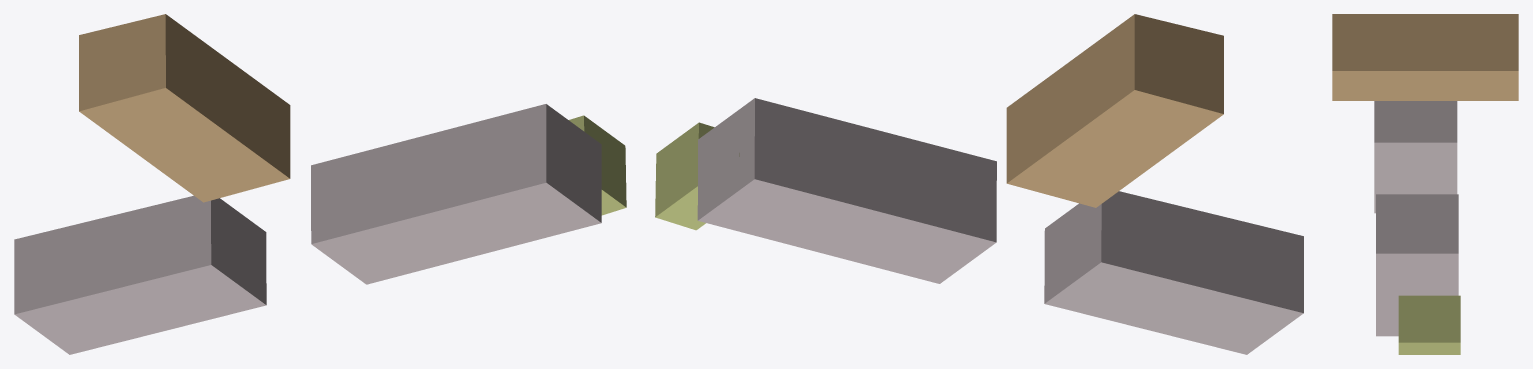
3 renders of one model, left to right at view 1: azimuth 30°, elevation 25°; view 2: azimuth 150°, elevation 25°; view 3: azimuth 270°, elevation 25°, orthographic. The views are drawn at different scales.
Parts seen in each view (by area): view 1: 0_0_1_3_1_1_1_3; view 2: 0_0_1_3_1_1_1_3; view 3: 0_0_1_3_1_1_1_3.
Part boxes in pixels (<box>): 0_0_1_3_1_1_1_3: <box>14,14,626,354</box>; 0_0_1_3_1_1_1_3: <box>655,14,1303,354</box>; 0_0_1_3_1_1_1_3: <box>1332,14,1518,354</box>.
Size of the model in its own units: 71.75 by 27.61 by 27.
